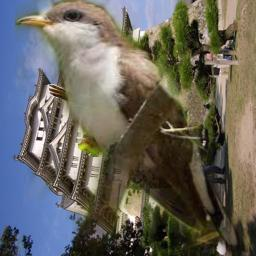Cuckoo: (15, 0, 248, 256), (49, 84, 149, 157)
